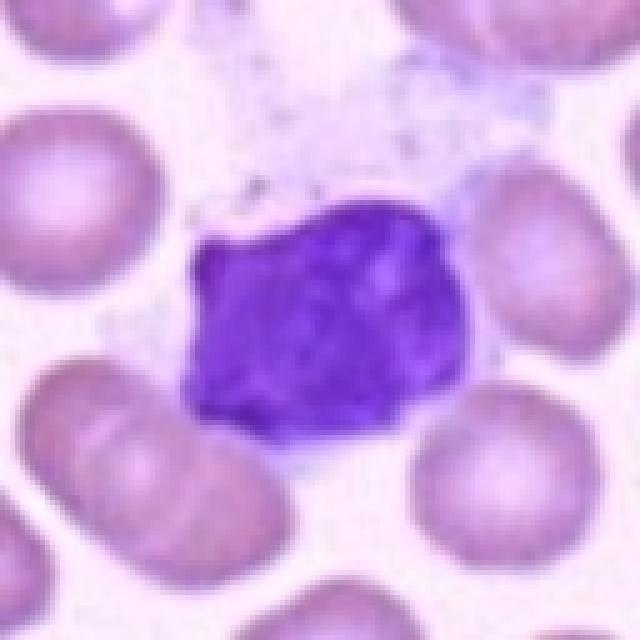lympho: (137, 0, 563, 472)
